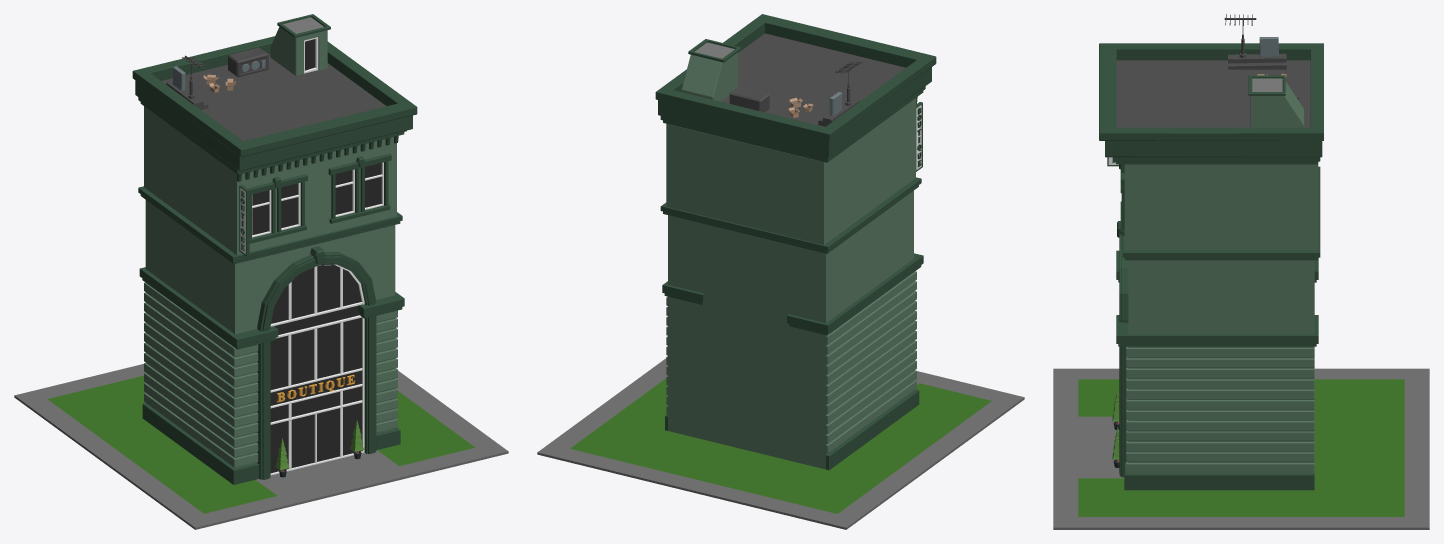
Rendered from boutique.glb.
3 views of the same model, side by side, from view 1: azimuth 30°, elevation 25°; view 2: azimuth 150°, elevation 25°; view 3: azimuth 270°, elevation 25° (orthographic). The views are drawn at different scales.
Visible parts, largest first — view 1: boutique; view 2: boutique; view 3: boutique.
Boxes of the visible parts, box(x1,y1,x2,y2) form: boutique: box(14, 14, 508, 529); boutique: box(537, 14, 1024, 529); boutique: box(1053, 14, 1429, 529).
Bounding box in the file's own units: 15 × 17.51 × 15.
1 material, 1 textured.
